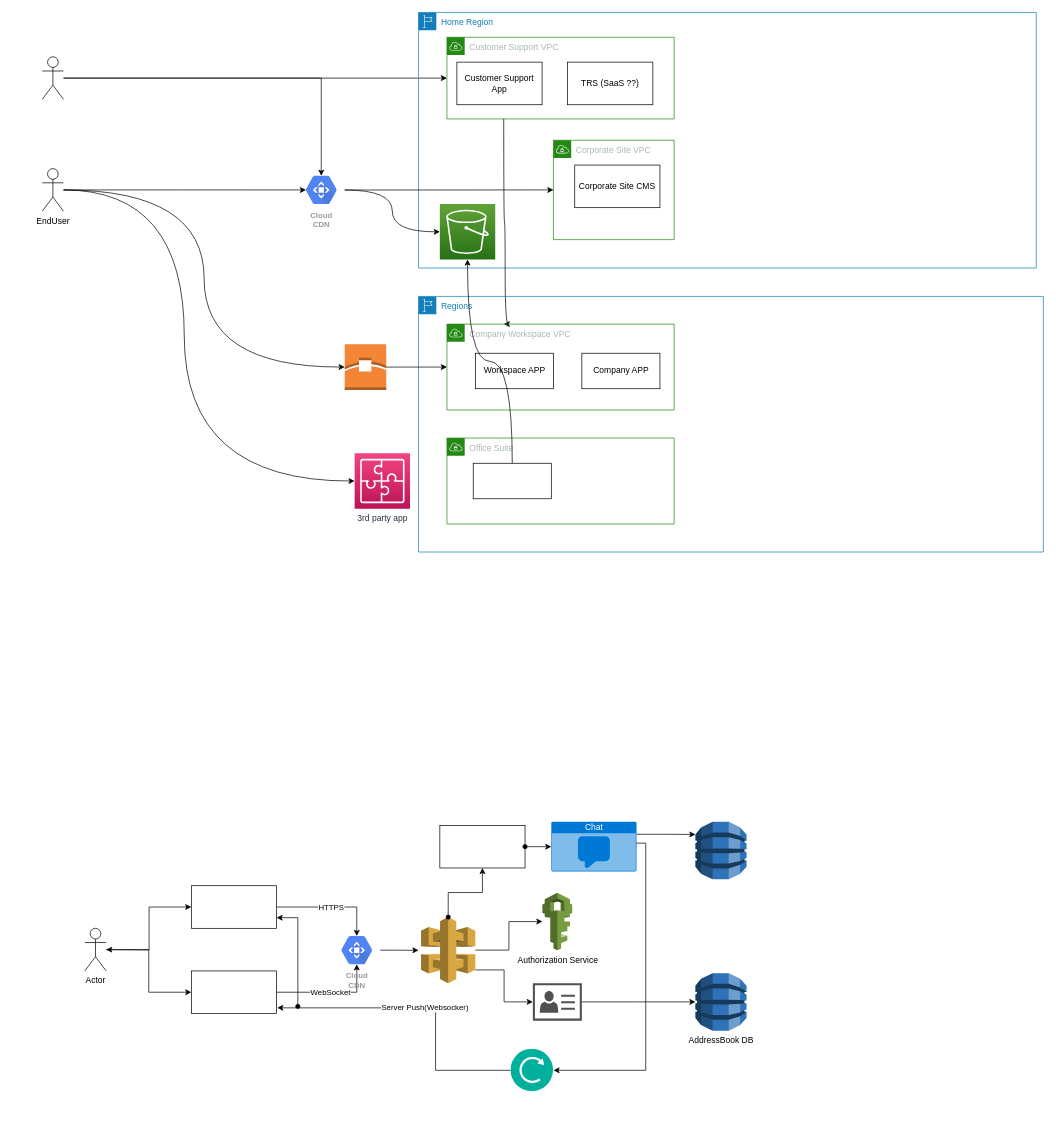
This 1056x1121 diagram has some shape labels left out. Each missing label, with the centre of its shape:
"AddressBook Service" belongs at pixel 556 1001.
"API Gateway" belongs at pixel 447 949.
"Chat DB" belongs at pixel 721 850.
"edge location" belongs at pixel 365 366.
"InternalBusinessUser" belongs at pixel 53 77.
"Mobile" belongs at pixel 234 992.
"Notifications" belongs at pixel 531 1070.
"Office APP" belongs at pixel 512 481.
"Session" belongs at pixel 482 846.
"SPA" belongs at pixel 234 906.
